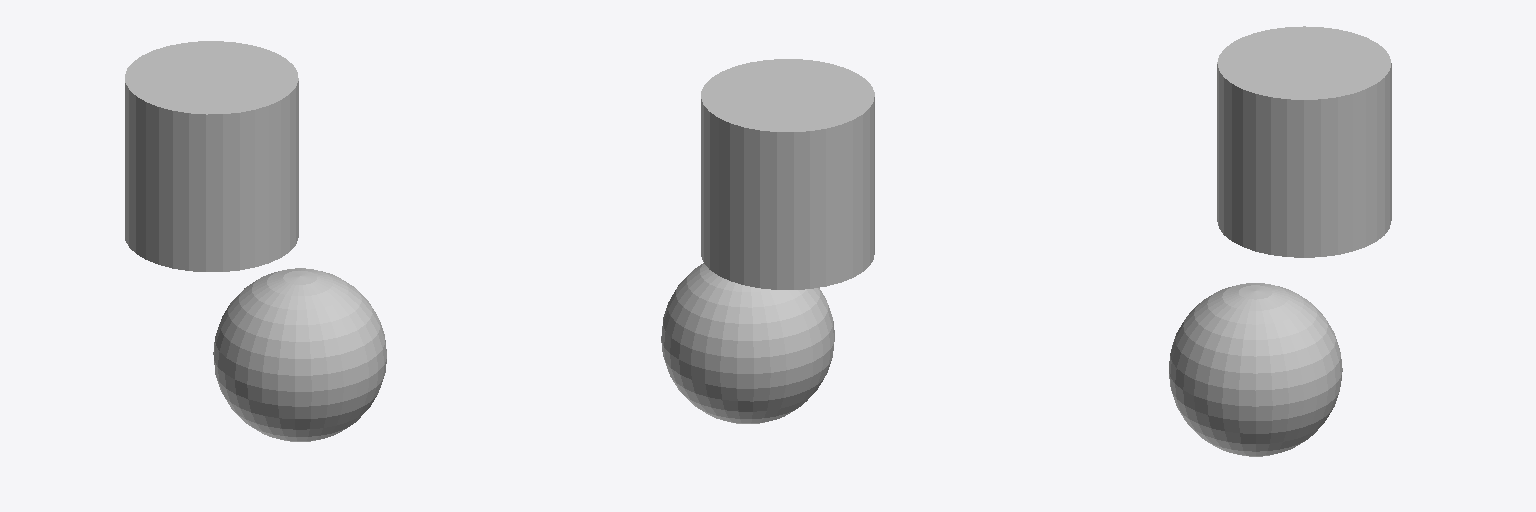
3 renders of one model, left to right at view 1: azimuth 30°, elevation 25°; view 2: azimuth 150°, elevation 25°; view 3: azimuth 270°, elevation 25°, orthographic.
Parts seen in each view (by area): view 1: 柱体, Sphere; view 2: 柱体, Sphere; view 3: 柱体, Sphere.
Boxes of the visible parts, <box> form: 柱体: <box>125,41,298,271</box>; Sphere: <box>213,268,386,441</box>; 柱体: <box>701,59,874,289</box>; Sphere: <box>661,263,834,423</box>; 柱体: <box>1217,26,1391,257</box>; Sphere: <box>1169,283,1342,456</box>.
Bounding box in the file's own units: 2.85 × 4.49 × 2.56.